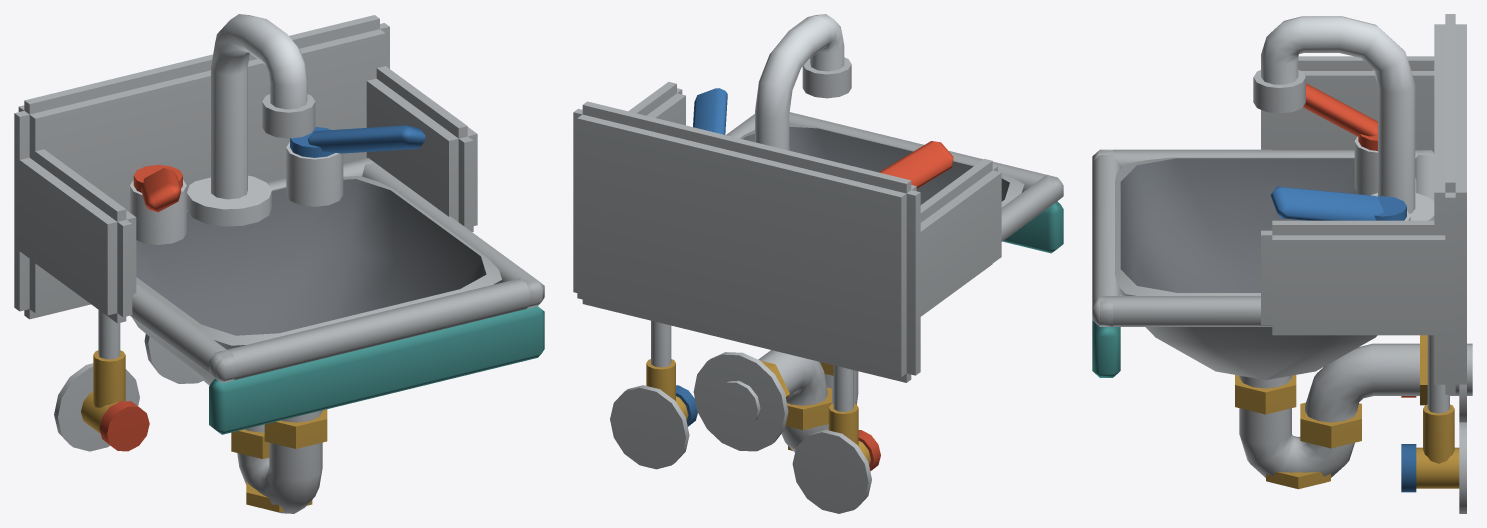
File: SM_HandSink_Wall_01.glb
The picture shows the model from 3 angles, left to right: view 1: azimuth 30°, elevation 25°; view 2: azimuth 150°, elevation 25°; view 3: azimuth 270°, elevation 25°; orthographic projection. The views are drawn at different scales.
Visible parts, largest first — view 1: SM_HandSink_Wall_01; view 2: SM_HandSink_Wall_01; view 3: SM_HandSink_Wall_01.
Boxes of the visible parts, x1,y1,x2,y2 form: SM_HandSink_Wall_01: (14,14,544,513); SM_HandSink_Wall_01: (573,14,1063,513); SM_HandSink_Wall_01: (1092,14,1472,513).
Size of the model in its own units: 0.45 by 0.553 by 0.406.
1 material, 1 textured.
